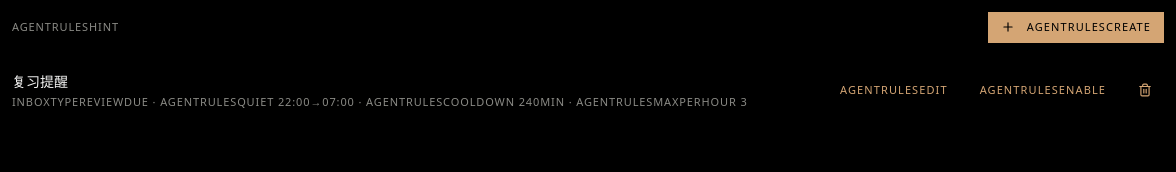
Test: AgentRulesPanel › 逐条启用：调 enabled 接口并更新本地状态
Check: the text "复习提醒" is shown, box [12,72,68,90]
Click the button "agentRulesEnable".
click(1043, 90)  # box [968,76,1118,104]
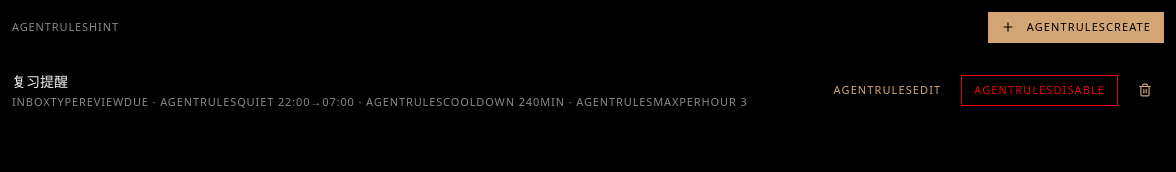
Check: the button "agentRulesDisable" is shown, box [961,75,1118,106]
